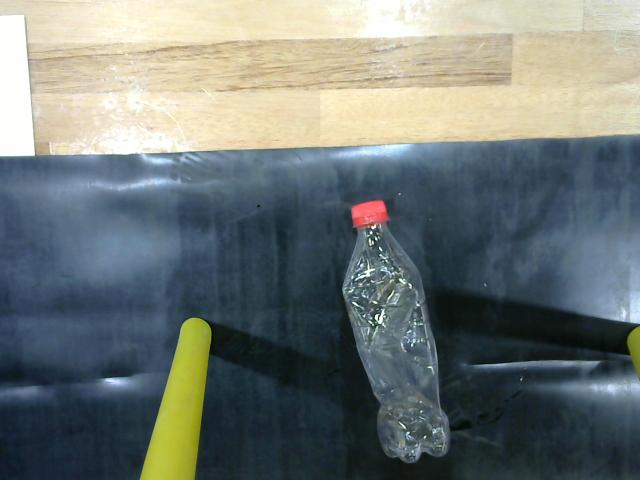bottle: (329, 192, 454, 469)
